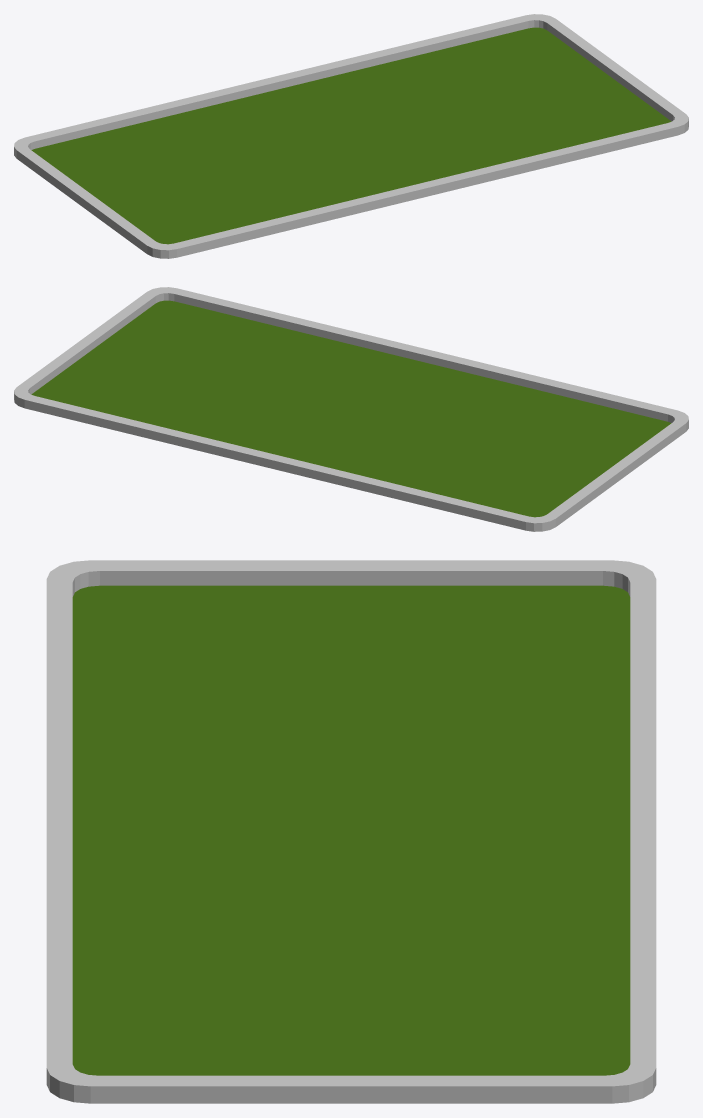
The picture shows the model from 3 angles, top to bottom: view 1: azimuth 30°, elevation 25°; view 2: azimuth 150°, elevation 25°; view 3: azimuth 270°, elevation 25°; orthographic projection. The views are drawn at different scales.
Parts seen in each view (by area): view 1: Plane.045; view 2: Plane.045; view 3: Plane.045.
Part boxes in pixels (left/top/right/bottom): Plane.045: left=14, top=14, right=688, bottom=258; Plane.045: left=14, top=287, right=688, bottom=531; Plane.045: left=46, top=560, right=656, bottom=1103.
Bounding box in the file's own units: 3036 × 1486 × 46.45.
